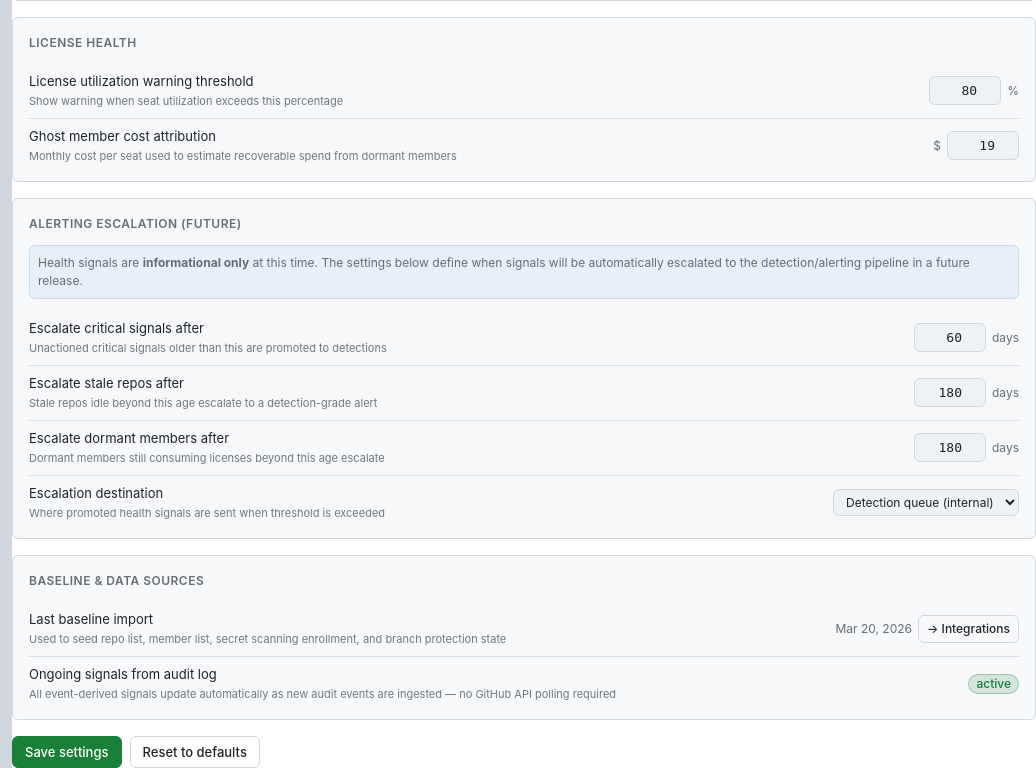
HealthSettingsPage › shows toast after saving
(page scrolled)
Click the button "Save settings" at [67, 752], box [12, 736, 122, 767]
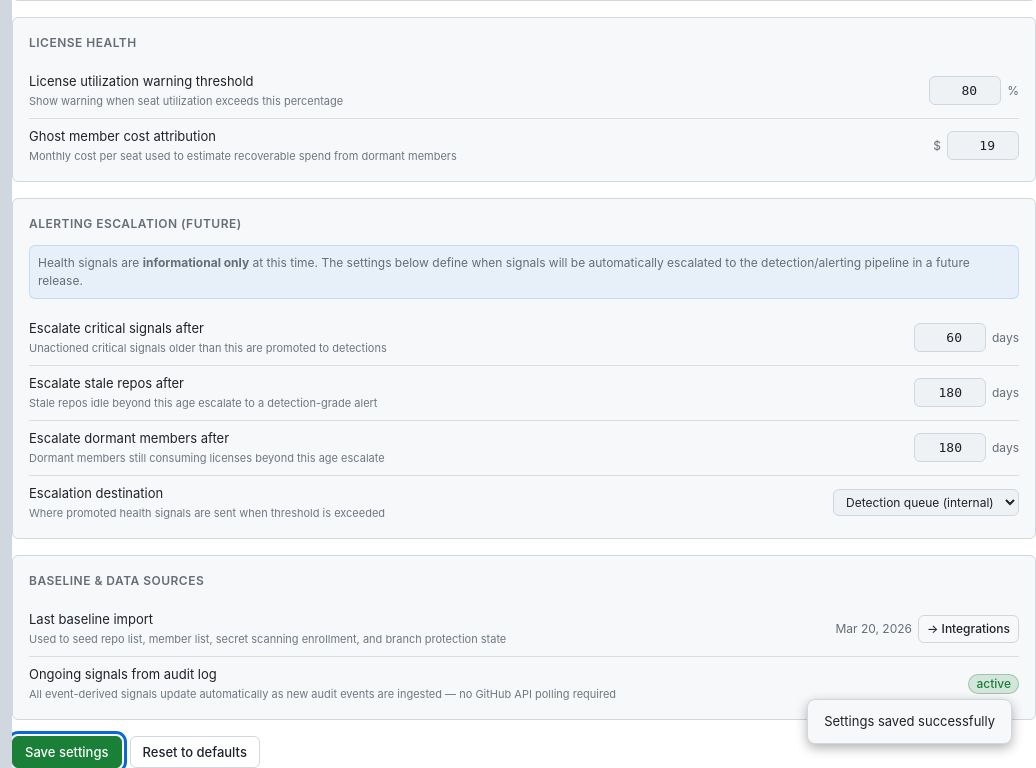
expect the message reads "Settings saved successfully": met, box [824, 712, 995, 728]
